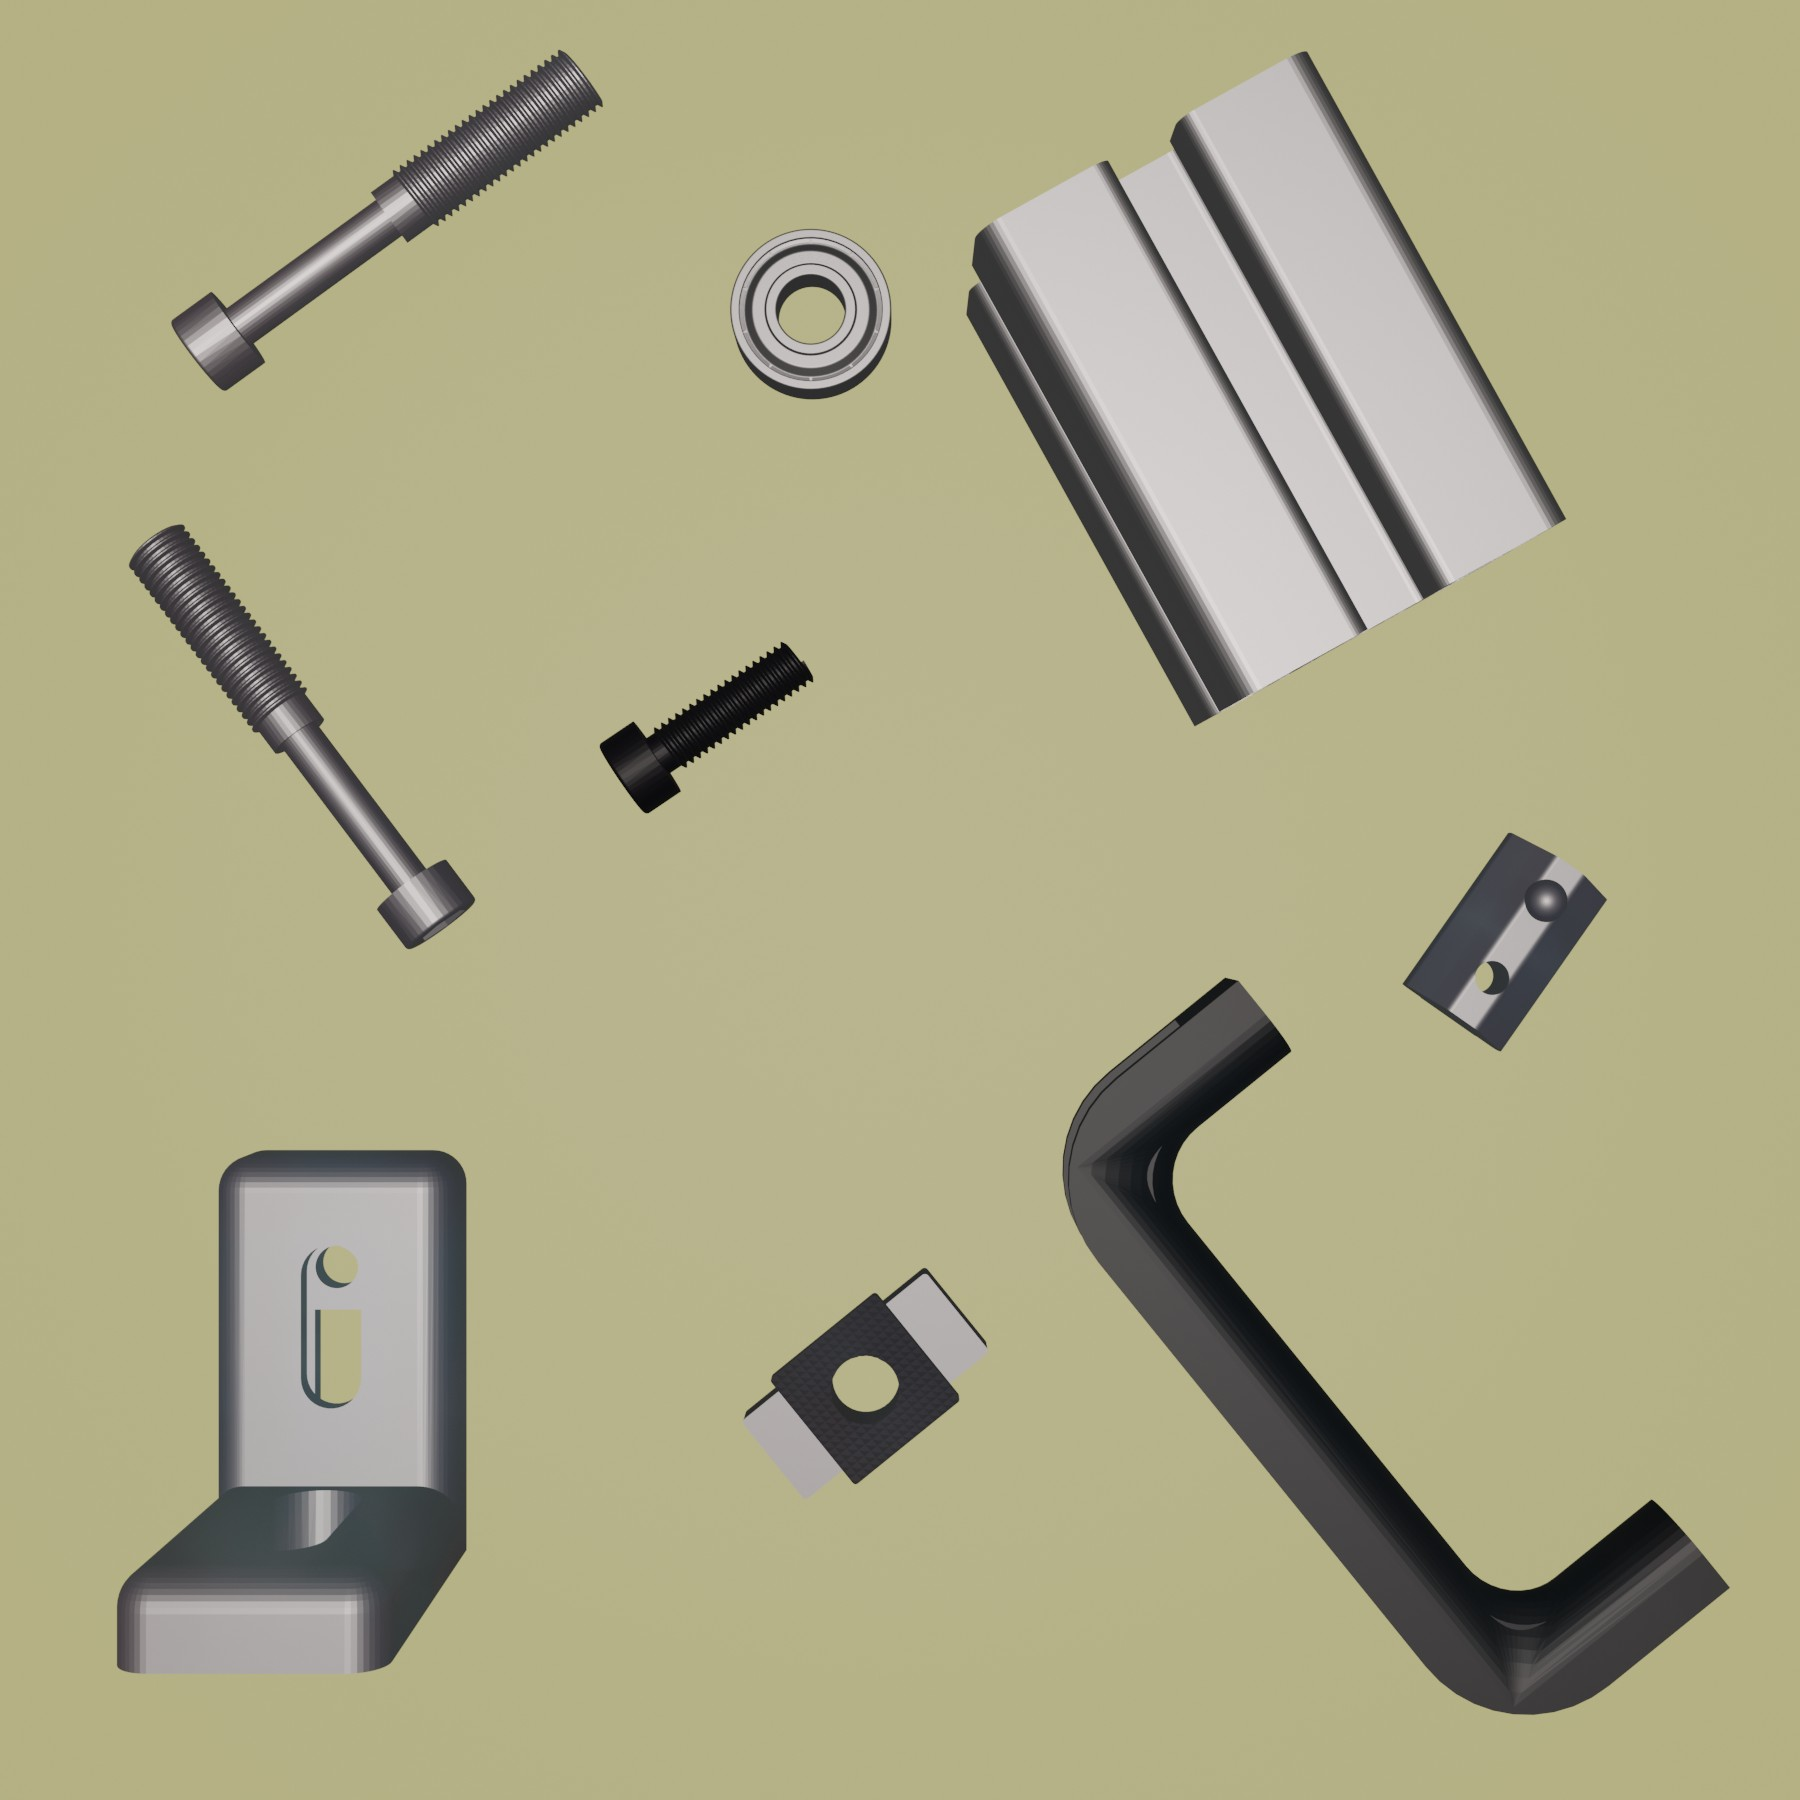Aluminium Extension: (964, 48, 1568, 730)
Ball Bearing: (729, 223, 892, 402)
Multiwinkel: (112, 1146, 475, 1680)
Pull Handle: (1062, 976, 1736, 1719)
Shoulder Socket Head Cap Screw: (125, 519, 476, 953), (173, 45, 603, 396)
Socket Head Cap Screw: (597, 636, 816, 816)
T Nut Square: (742, 1264, 992, 1503)
T Spring Nut: (1401, 831, 1609, 1053)
